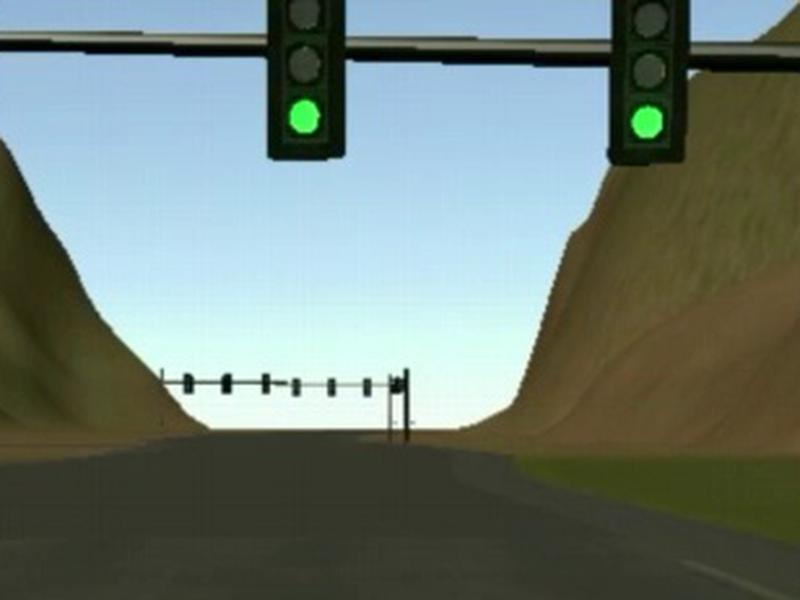Green: (605, 1, 691, 167), (266, 1, 347, 161)
